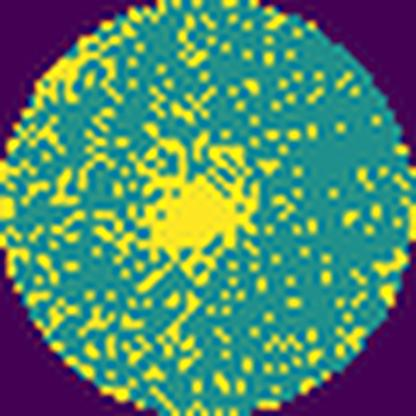Center: (131, 138, 267, 271)
